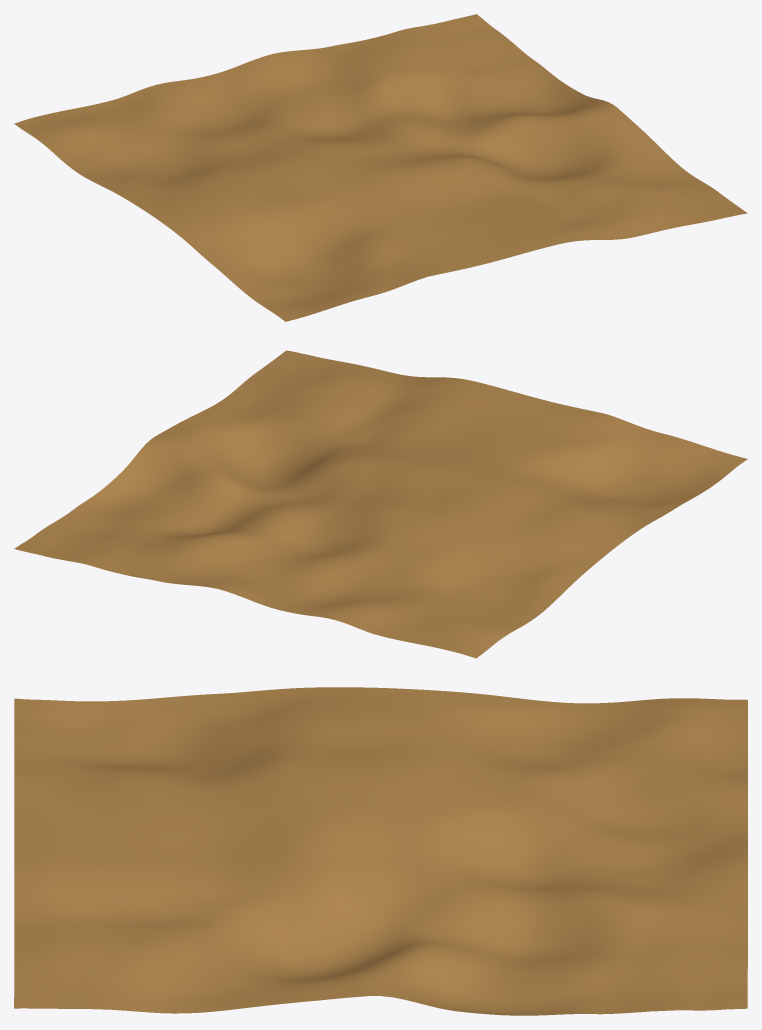
The model's file is terre_chemin_courve2.fbx.
The picture shows the model from 3 angles, top to bottom: view 1: azimuth 30°, elevation 25°; view 2: azimuth 150°, elevation 25°; view 3: azimuth 270°, elevation 25°; orthographic projection. The views are drawn at different scales.
Parts seen in each view (by area): view 1: terre_chemin_courve2; view 2: terre_chemin_courve2; view 3: terre_chemin_courve2.
Part boxes in pixels (bbox=[...]): terre_chemin_courve2: bbox=[14, 14, 747, 321]; terre_chemin_courve2: bbox=[14, 350, 747, 658]; terre_chemin_courve2: bbox=[14, 687, 747, 1015].
Size of the model in its own units: 708 by 52.49 by 721.
